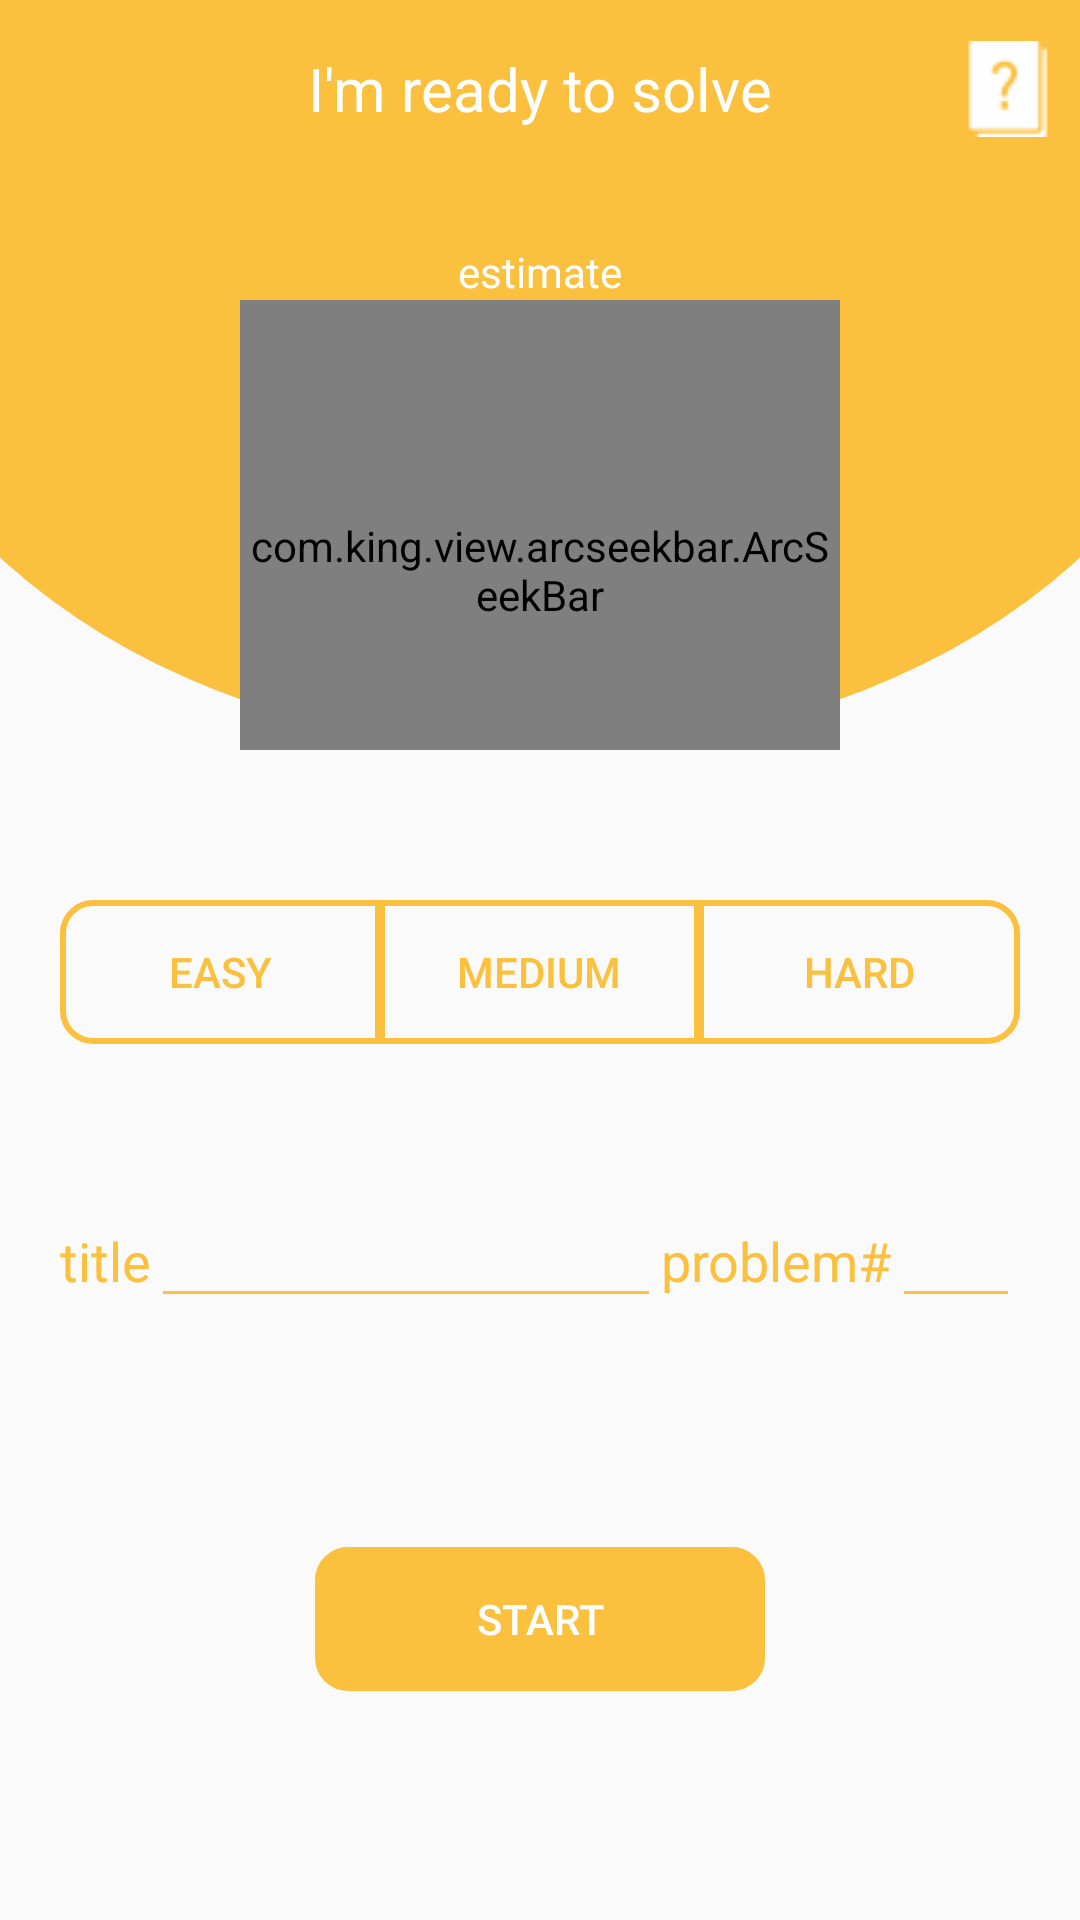

Where icons sit on this 1080px×1920px app screen, as (x1, y1, x2, y2):
question: (968, 41, 1048, 137)
